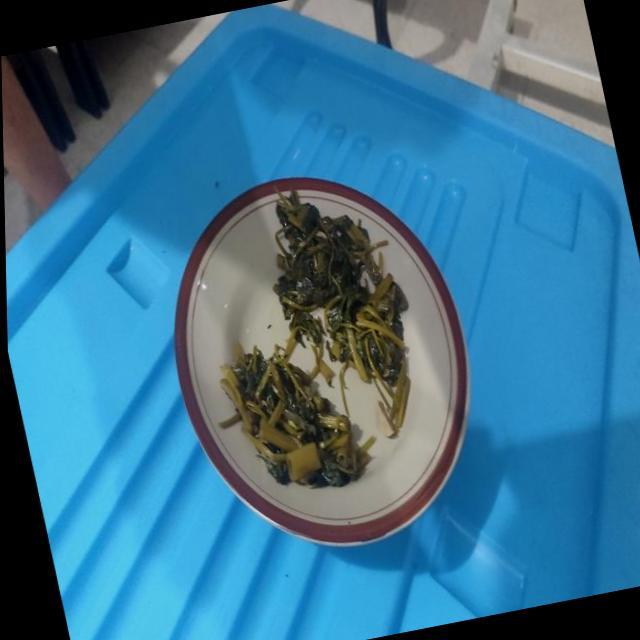tumis_kangkung: (274, 202, 410, 434), (220, 340, 367, 488)
